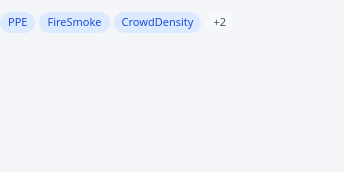
Test case: analytics chips › shows the rest when +N is clicked
The image size is (344, 172).
Click the button named "Show 2 more analytics" at (220, 22), box [205,12,234,32]
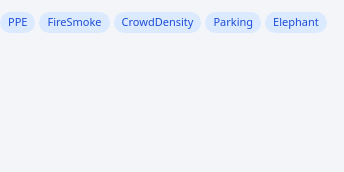
expect the number of links is 5: met, box [0,12,35,32]; [39,12,110,32]; [114,12,201,32]; [205,12,261,32]; [265,12,327,32]
